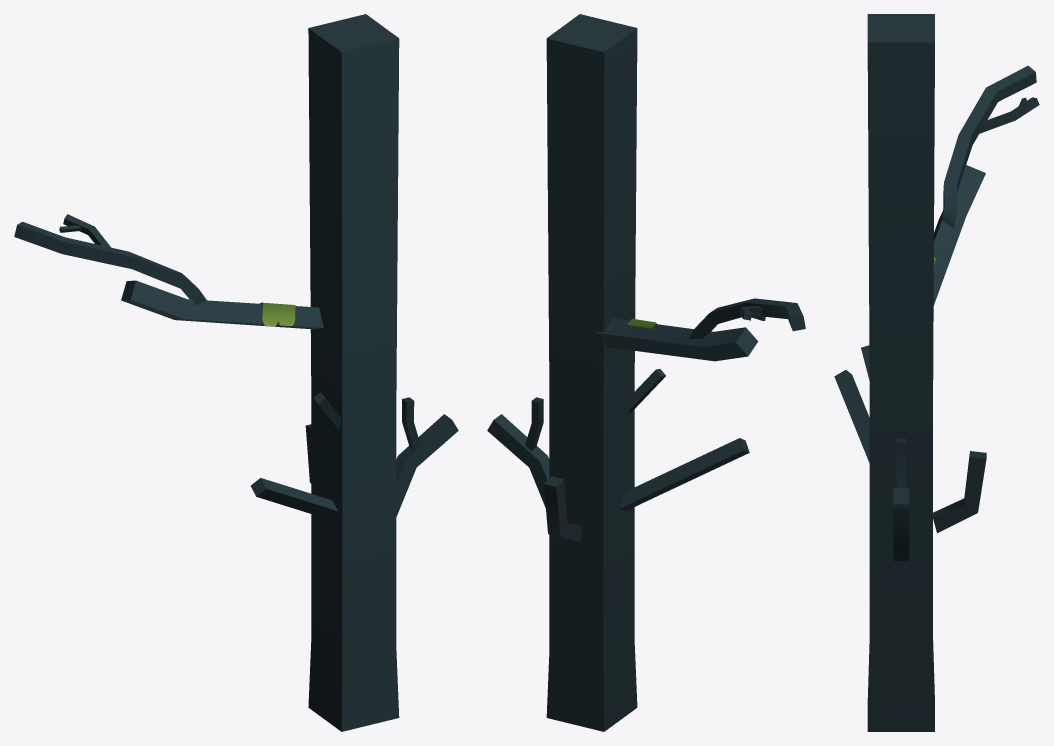
File: tree1-moss.fbx
The picture shows the model from 3 angles, left to right: view 1: azimuth 30°, elevation 25°; view 2: azimuth 150°, elevation 25°; view 3: azimuth 270°, elevation 25°; orthographic projection.
Parts seen in each view (by area): view 1: tree-1-moss; view 2: tree-1-moss; view 3: tree-1-moss.
Part boxes in pixels (x1,y1,x2,y2): tree-1-moss: [14, 14, 458, 731]; tree-1-moss: [487, 14, 805, 731]; tree-1-moss: [834, 14, 1039, 731].
Size of the model in its own units: 5.11 by 8.79 by 2.37.
